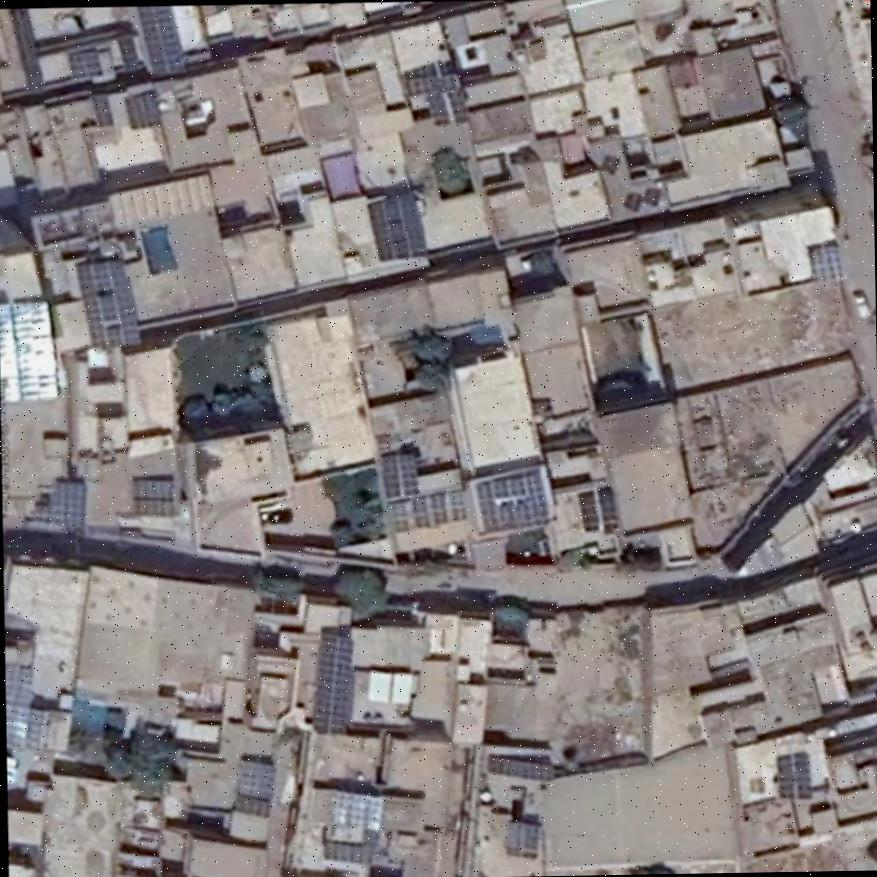Solarpanel: (76, 257, 143, 347), (0, 300, 56, 399), (5, 661, 55, 746), (367, 193, 426, 259), (476, 474, 546, 529), (314, 633, 352, 734), (134, 5, 182, 79), (329, 791, 383, 829), (48, 479, 83, 526), (778, 751, 811, 798), (486, 756, 550, 779), (384, 452, 417, 494), (505, 820, 540, 856), (126, 92, 157, 126), (813, 246, 844, 279), (69, 50, 102, 75)
